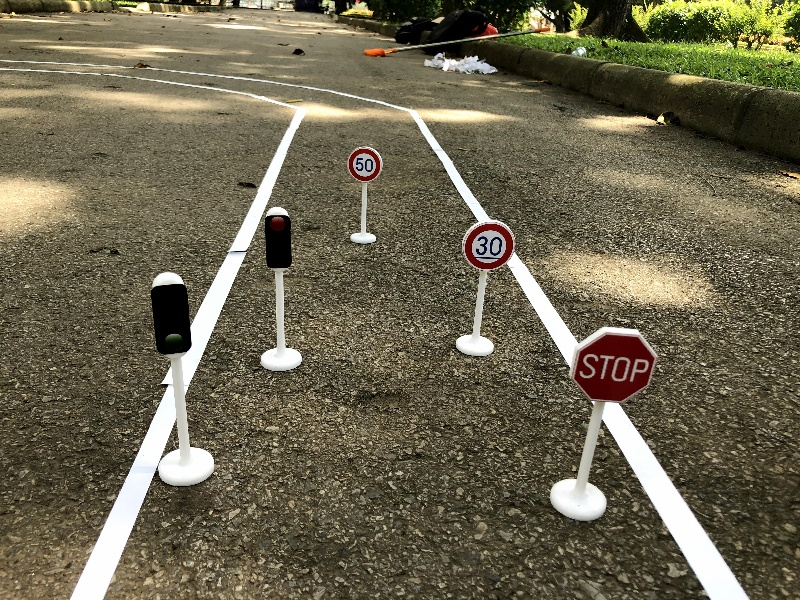Green: (149, 272, 216, 488)
Limit 30: (454, 219, 516, 356)
Limit 50: (345, 145, 384, 246)
Red: (259, 205, 304, 372)
Stop: (549, 326, 660, 521)
